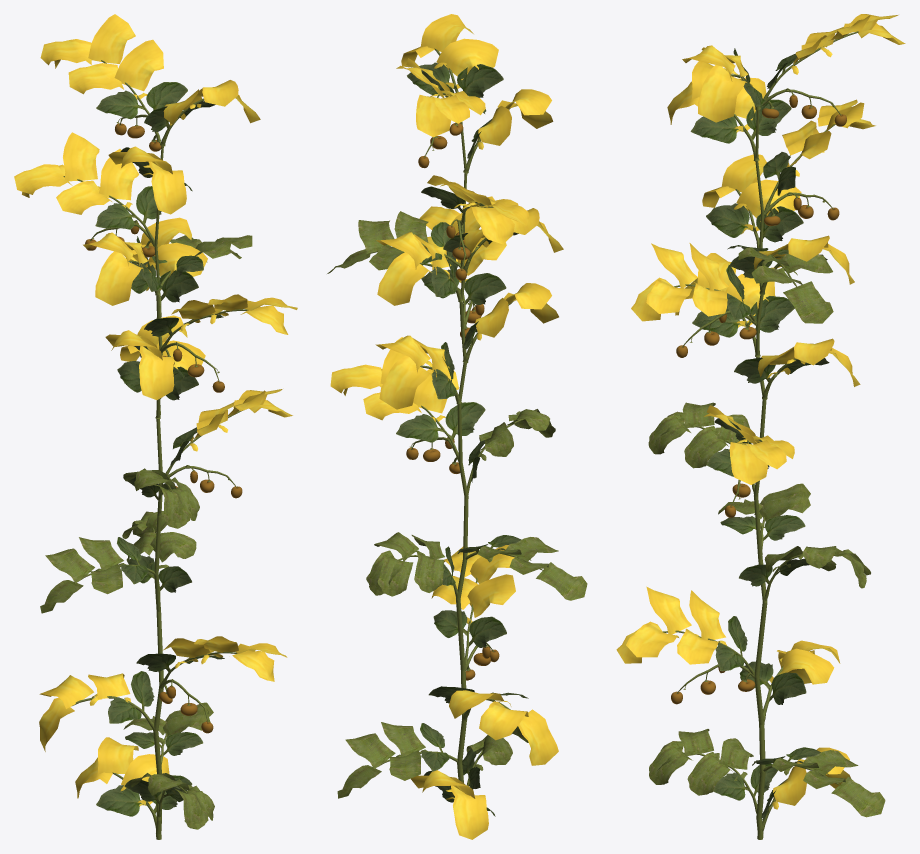
Rendered from apple_tree.dae.
3 views of the same model, side by side, from view 1: azimuth 30°, elevation 25°; view 2: azimuth 150°, elevation 25°; view 3: azimuth 270°, elevation 25° (orthographic). The views are drawn at different scales.
Visible parts, largest first — view 1: Blossom4, Blossom3, Blossom1, Leaf2, Branch3, Blossom2, Leaf3, Branch1, Leaf1; view 2: Blossom4, Blossom1, Blossom3, Branch3, Blossom2, Leaf3, Leaf2, Branch1, Leaf1; view 3: Blossom4, Leaf2, Blossom2, Branch3, Blossom3, Blossom1, Branch1, Leaf1, Leaf3.
Boxes of the visible parts, box(x1,y1,x2,y2) form: Blossom4: box(14, 14, 297, 681); Blossom3: box(39, 217, 207, 751); Blossom1: box(75, 80, 260, 806); Leaf2: box(108, 236, 203, 803); Branch3: box(40, 235, 252, 817); Blossom2: box(122, 468, 214, 829); Leaf3: box(95, 82, 224, 672); Branch1: box(63, 60, 248, 839); Leaf1: box(96, 101, 215, 816); Blossom4: box(330, 58, 529, 624); Blossom1: box(375, 14, 553, 839); Blossom3: box(376, 208, 563, 765); Branch3: box(327, 211, 587, 798); Blossom2: box(366, 409, 555, 770); Leaf3: box(396, 71, 506, 647); Leaf2: box(420, 222, 528, 789); Branch1: box(410, 93, 493, 782); Leaf1: box(407, 62, 503, 816); Blossom4: box(616, 14, 905, 664); Leaf2: box(692, 203, 827, 800); Blossom2: box(648, 402, 870, 795); Branch3: box(682, 189, 885, 817); Blossom3: box(675, 154, 854, 684); Blossom1: box(667, 45, 860, 809); Branch1: box(662, 31, 858, 839); Leaf1: box(690, 48, 829, 819); Leaf3: box(714, 53, 796, 671).
Bounding box in the file's own units: 0.918 × 0.8922 × 2.81.
